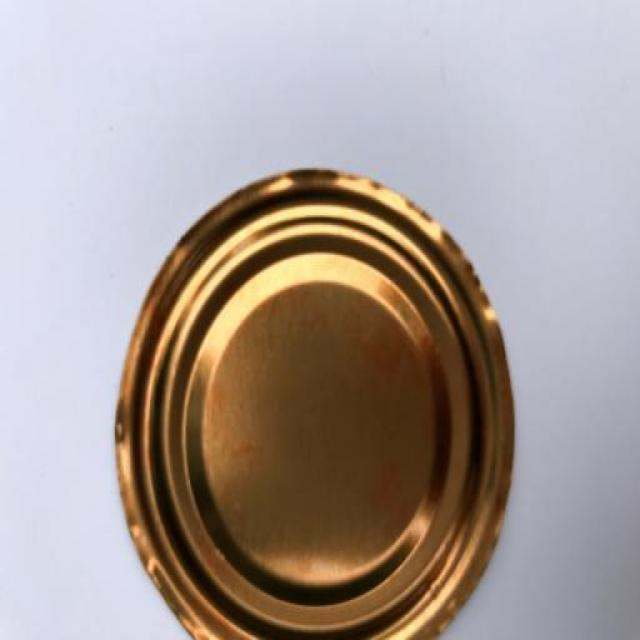metel: (104, 152, 521, 640)
